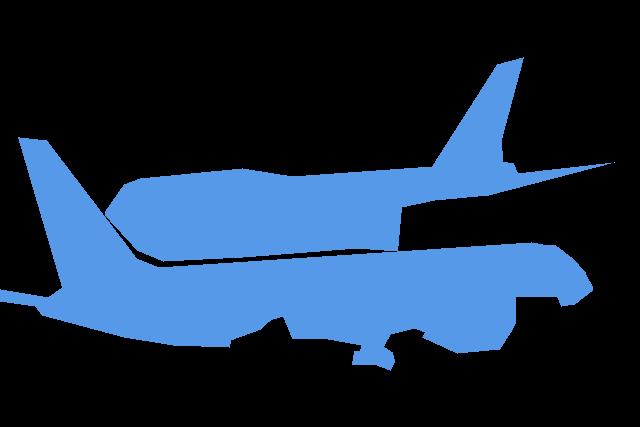Airplane: (0, 137, 592, 371), (105, 57, 615, 262)
